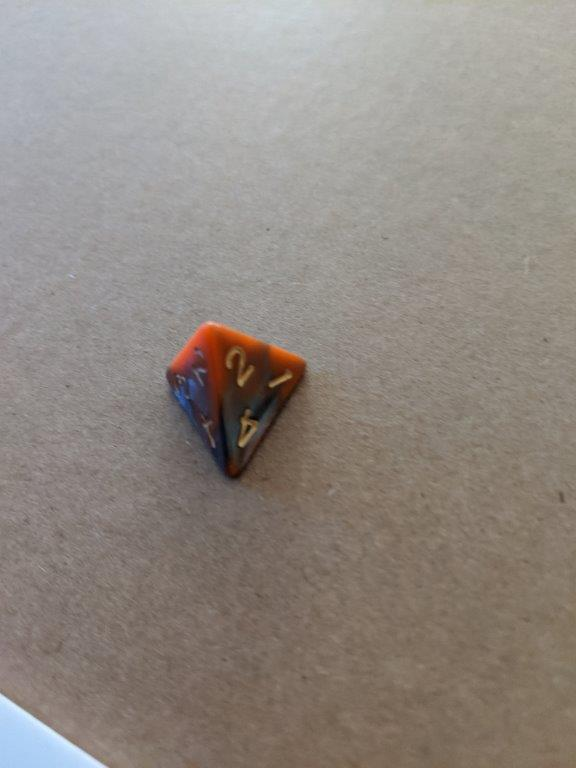d4-2: (162, 318, 314, 483)
